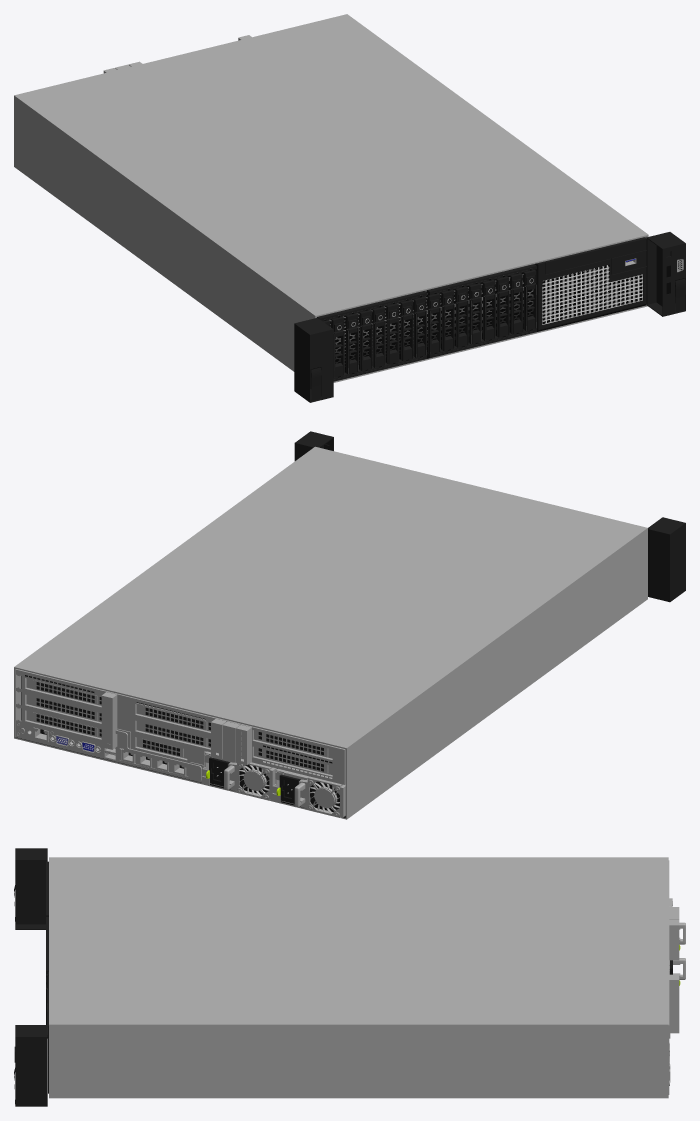
File: Dell_R740.fbx
3 renders of one model, top to bottom at view 1: azimuth 30°, elevation 25°; view 2: azimuth 150°, elevation 25°; view 3: azimuth 270°, elevation 25°, orthographic. The views are drawn at different scales.
Parts seen in each view (by area): view 1: Dell_R740; view 2: Dell_R740; view 3: Dell_R740.
Boxes of the visible parts, x1,y1,x2,y2 form: Dell_R740: (14,14,685,402); Dell_R740: (14,431,685,819); Dell_R740: (14,848,685,1106).
Size of the model in its own units: 490 by 89 by 737.
8 materials, 2 textured.
